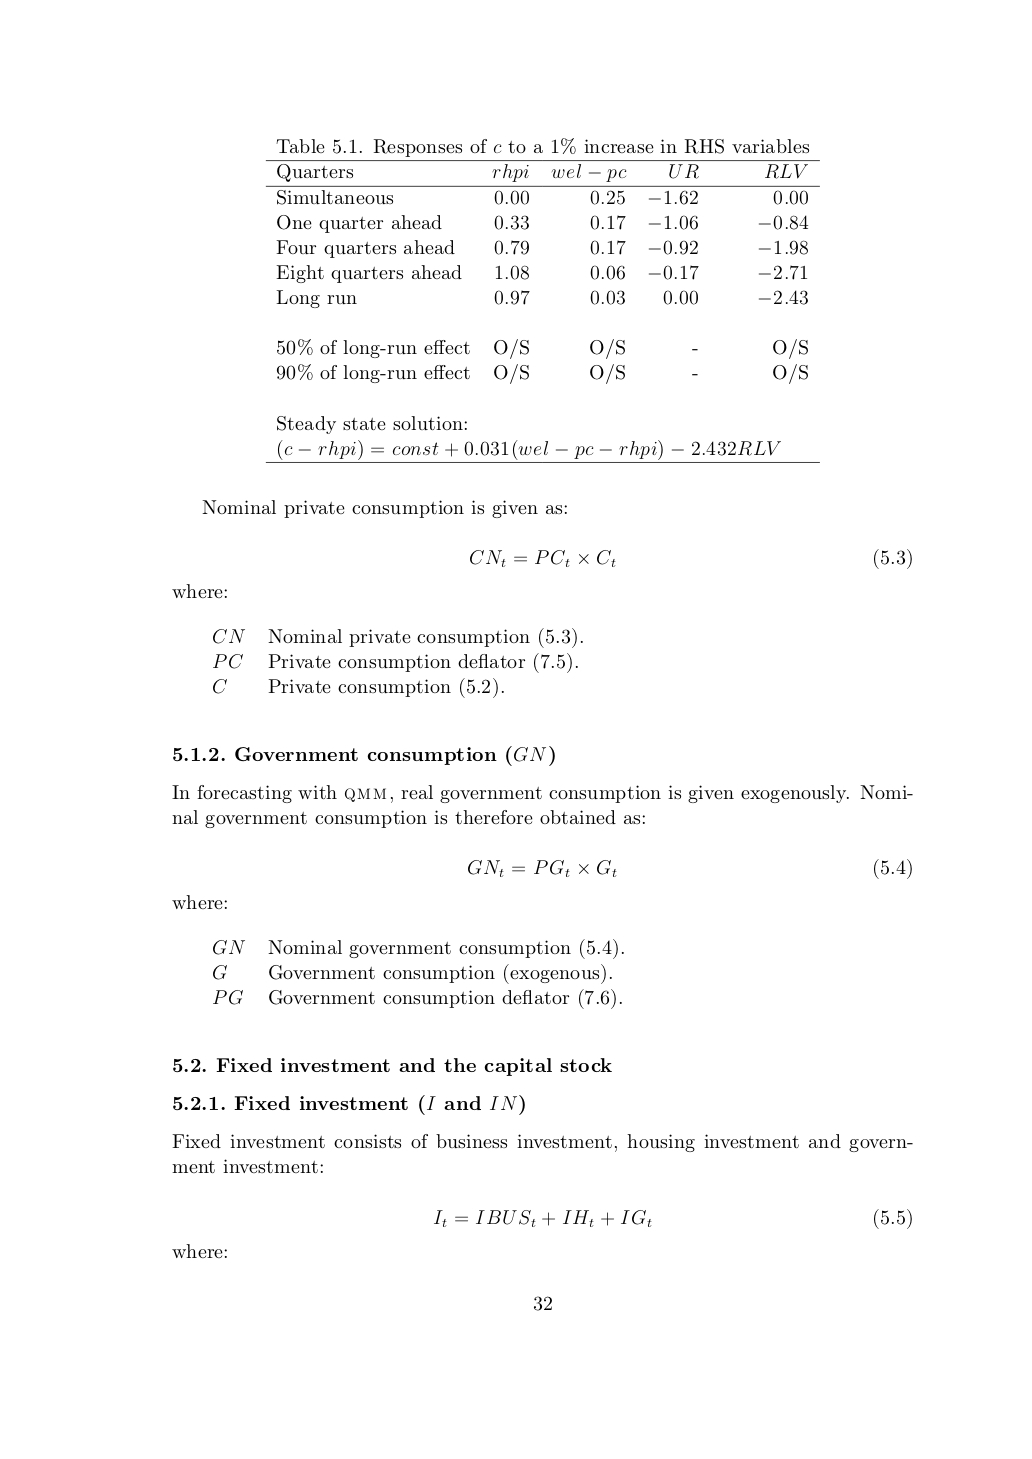Table: (265, 138, 819, 462)
formula: (433, 1208, 911, 1229), (470, 548, 911, 569), (468, 858, 911, 879)
